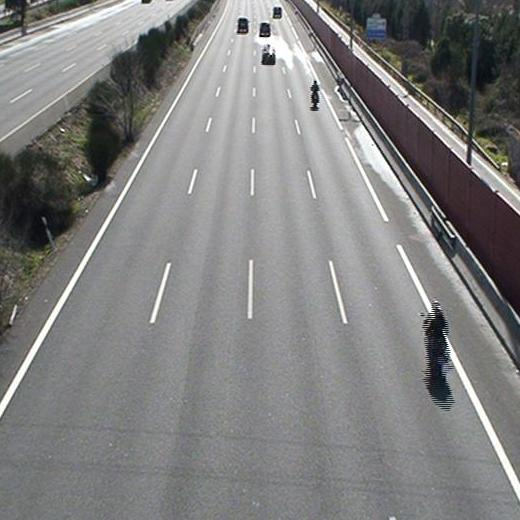car: (261, 44, 276, 64), (237, 16, 249, 34), (259, 22, 271, 36), (272, 6, 283, 19)
motorcycle: (420, 300, 450, 384), (310, 76, 320, 111)
